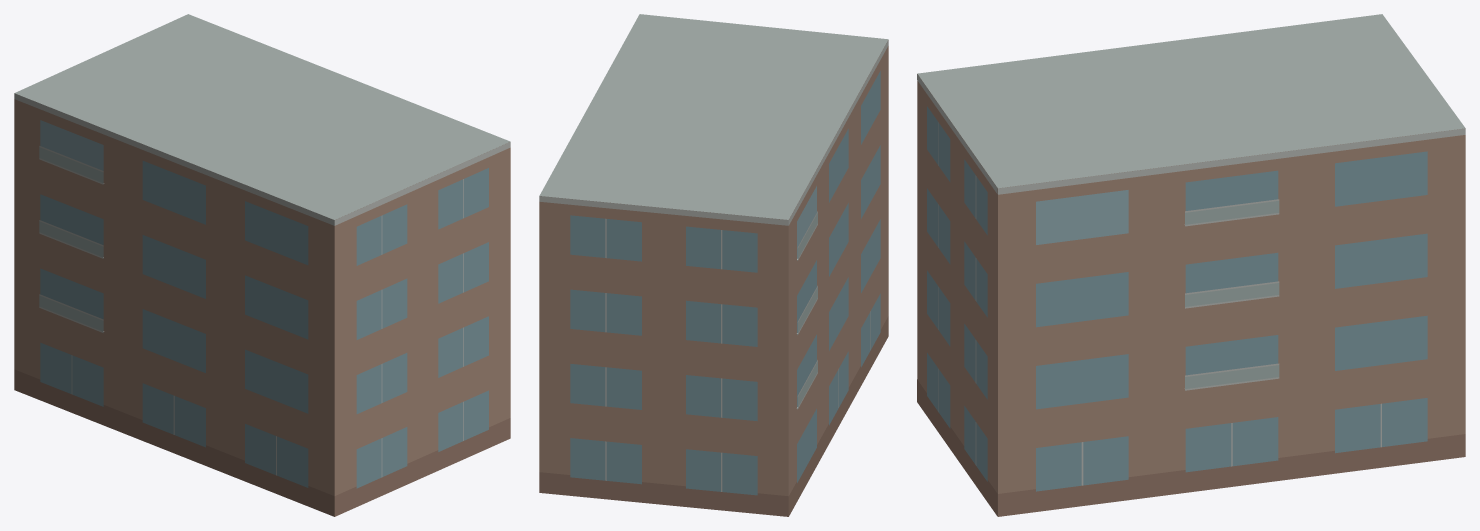
The model's file is survey-upis-32534678.glb.
3 renders of one model, left to right at view 1: azimuth 30°, elevation 25°; view 2: azimuth 150°, elevation 25°; view 3: azimuth 270°, elevation 25°, orthographic. The views are drawn at different scales.
Visible parts, largest first — view 1: survey-upis-32534678.tmp; view 2: survey-upis-32534678.tmp; view 3: survey-upis-32534678.tmp.
Boxes of the visible parts, x1,y1,x2,y2 form: survey-upis-32534678.tmp: (14, 14, 510, 516); survey-upis-32534678.tmp: (539, 14, 888, 516); survey-upis-32534678.tmp: (917, 14, 1465, 516).
Size of the model in its own units: 14.12 by 12.4 by 18.77.
